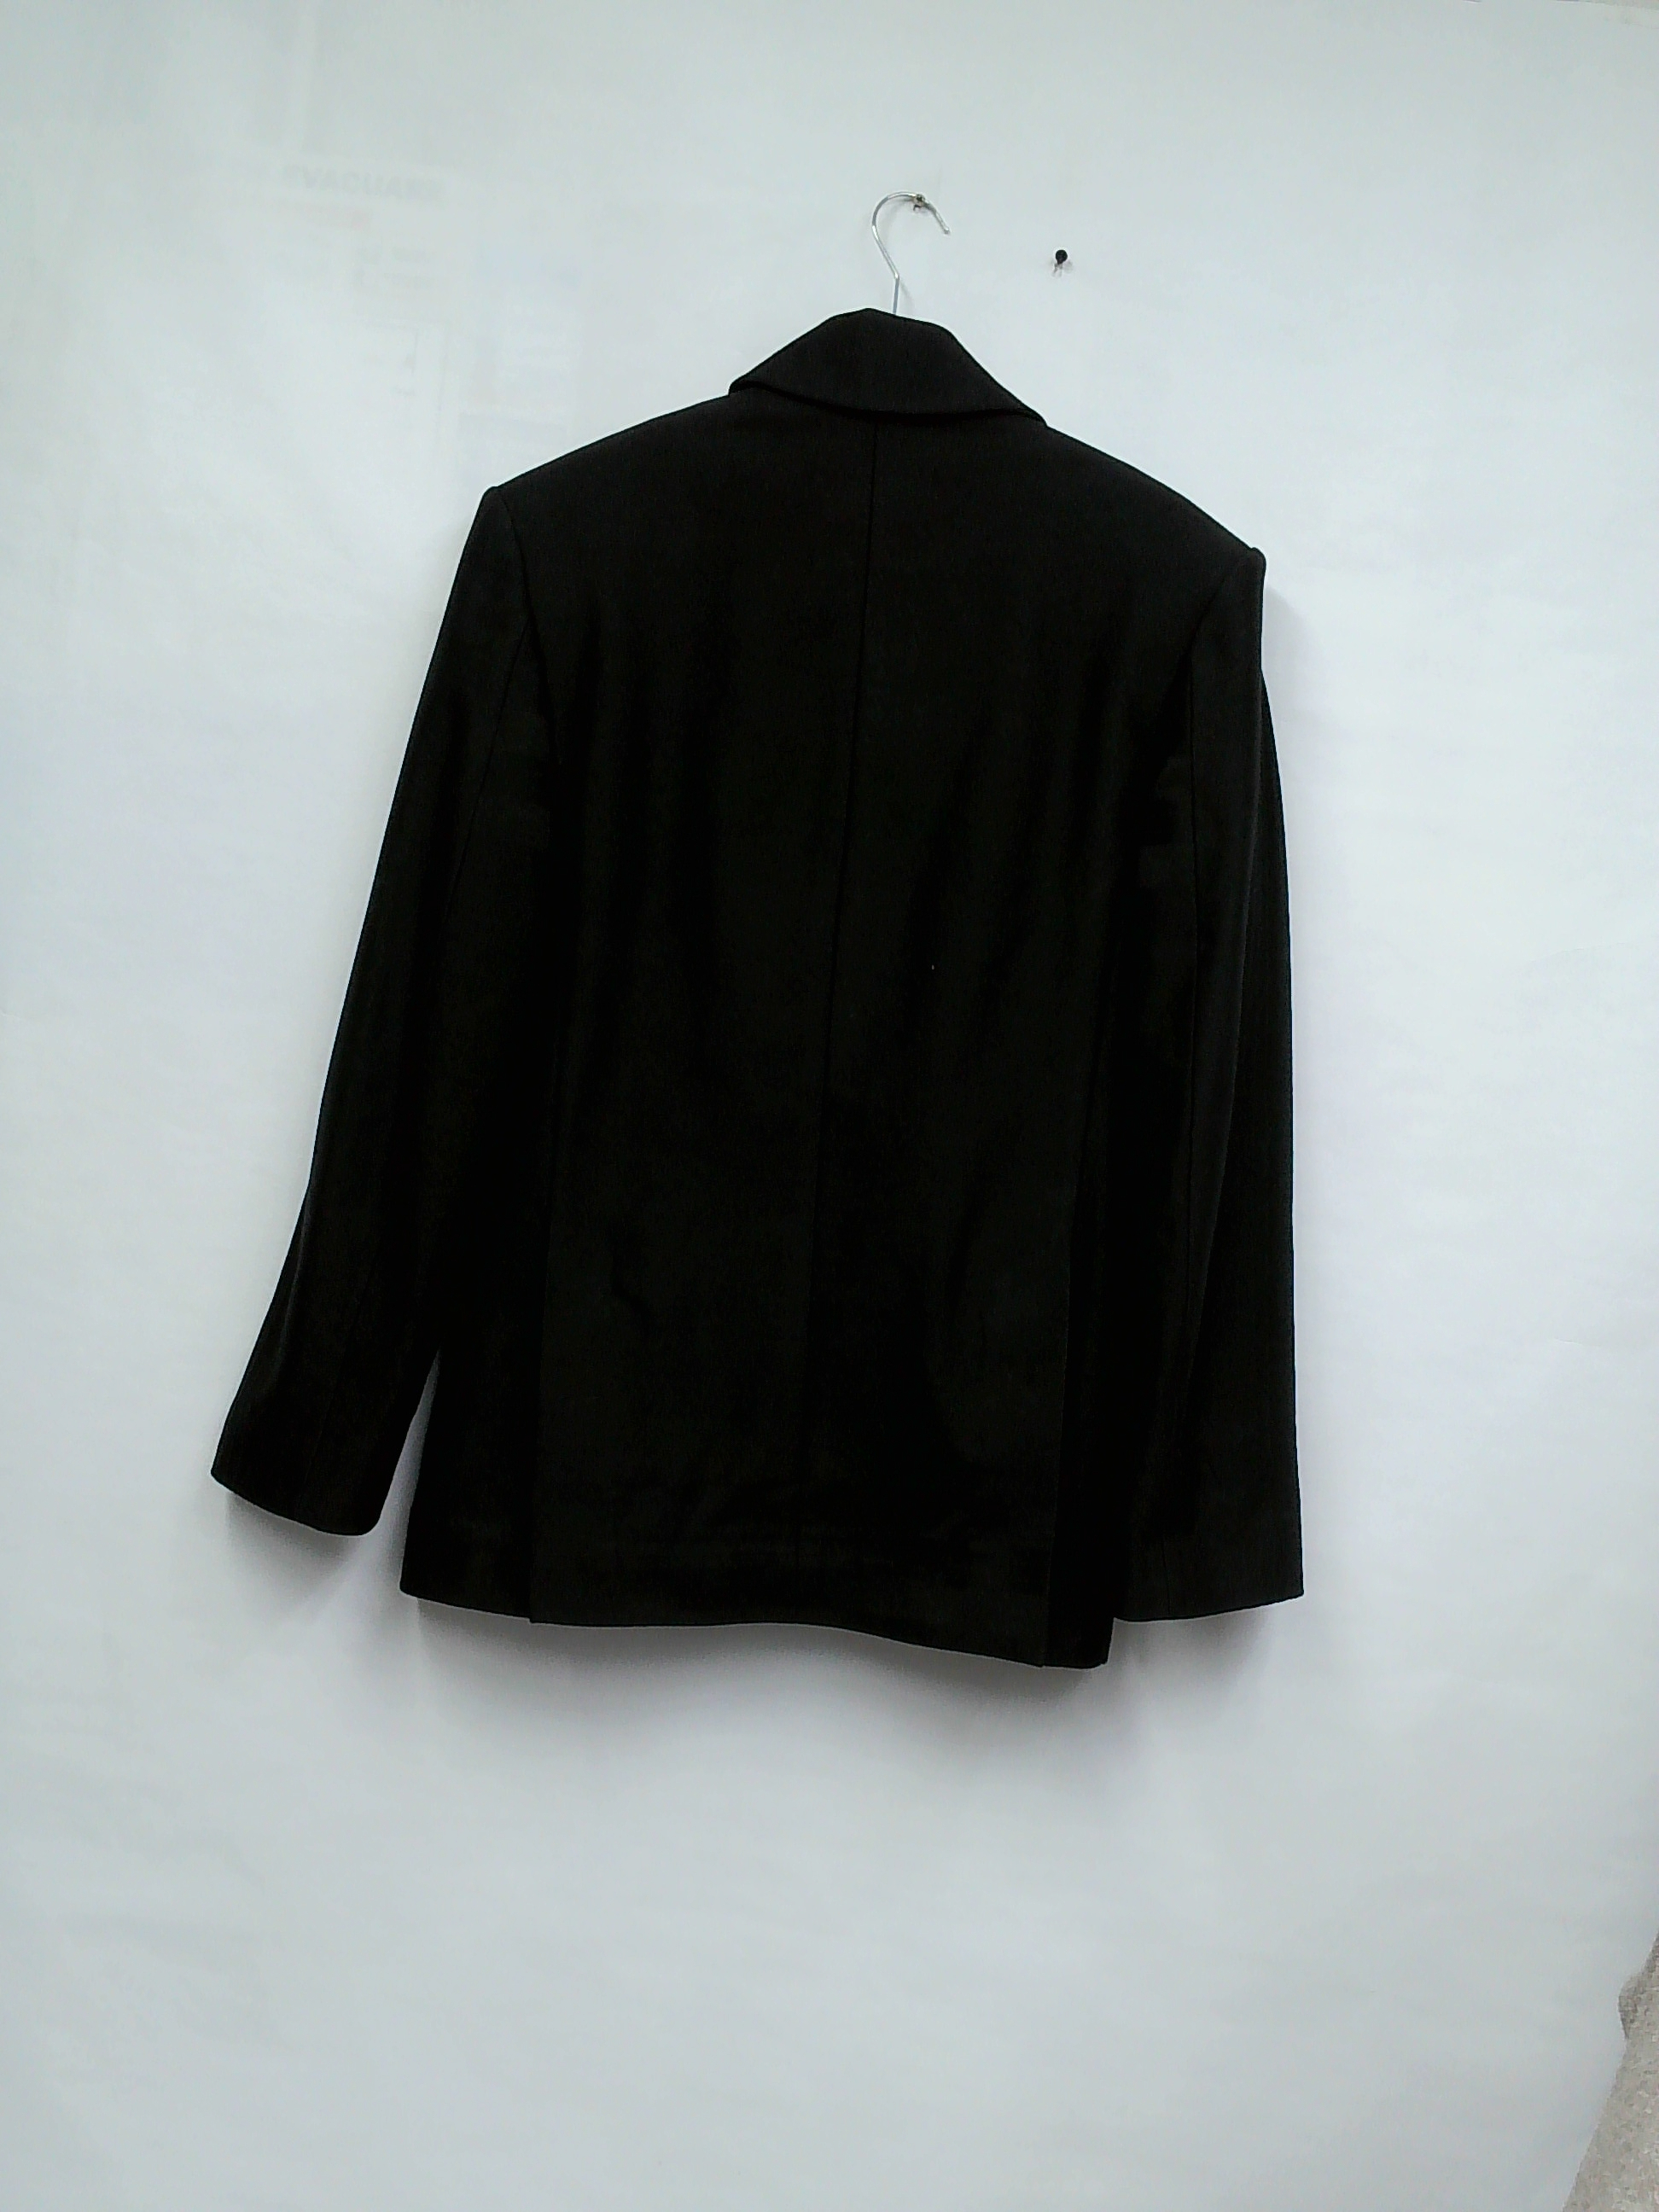seam: (945, 1228, 1136, 1655), (511, 1193, 748, 1392)
